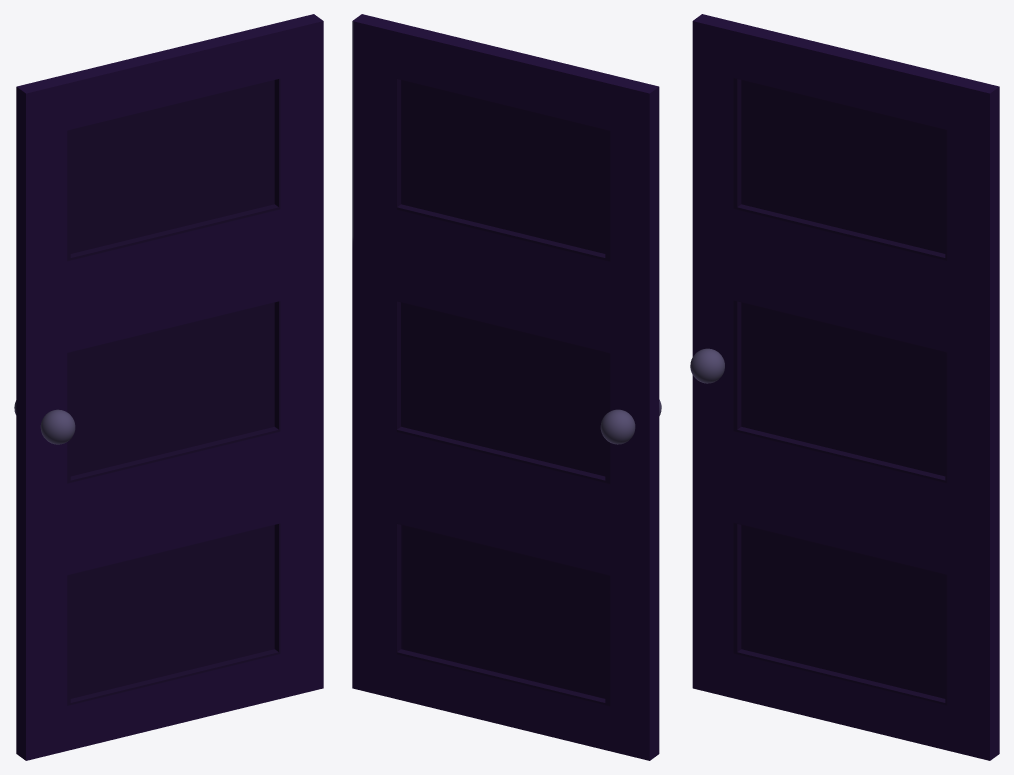
Rendered from SM_Porte.FBX.
The picture shows the model from 3 angles, left to right: view 1: azimuth 30°, elevation 25°; view 2: azimuth 150°, elevation 25°; view 3: azimuth 330°, elevation 25°; orthographic projection.
Parts seen in each view (by area): view 1: Box073; view 2: Box073; view 3: Box073.
Part boxes in pixels (x1,y1,x2,y2): Box073: [14, 14, 323, 760]; Box073: [352, 14, 661, 760]; Box073: [690, 14, 999, 760].
Size of the model in its own units: 1278 by 2740 by 325.
Materials: 1 (1 with a texture image).
